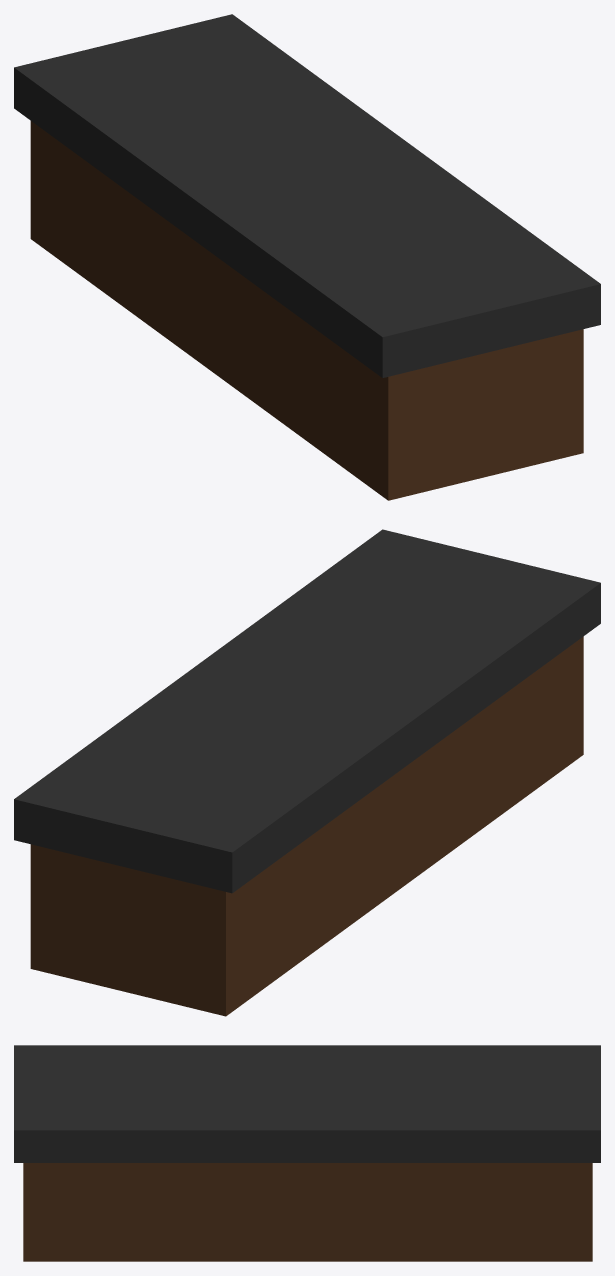
Rendered from LongBench.fbx.
The picture shows the model from 3 angles, top to bottom: view 1: azimuth 30°, elevation 25°; view 2: azimuth 150°, elevation 25°; view 3: azimuth 270°, elevation 25°; orthographic projection. The views are drawn at different scales.
Parts seen in each view (by area): view 1: Cube; view 2: Cube; view 3: Cube.
Part boxes in pixels (left/top/right/bottom): Cube: left=14, top=14, right=600, bottom=500; Cube: left=14, top=529, right=600, bottom=1016; Cube: left=14, top=1045, right=600, bottom=1261.
Size of the model in its own units: 110 by 82.44 by 323.
